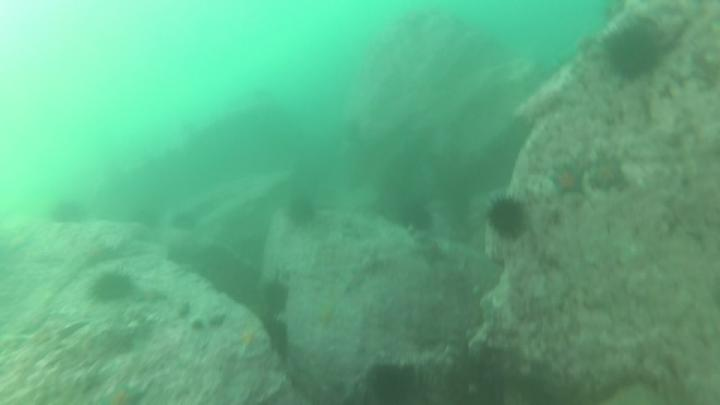echinus: (594, 19, 666, 87), (364, 359, 422, 405), (482, 194, 531, 244), (86, 269, 138, 306), (285, 194, 323, 229), (398, 199, 437, 233), (45, 199, 88, 228), (263, 318, 291, 360), (264, 284, 294, 318), (169, 210, 200, 235)
starfish: (582, 149, 631, 197), (545, 158, 592, 200), (412, 238, 452, 267), (232, 327, 266, 358), (101, 384, 151, 405)
